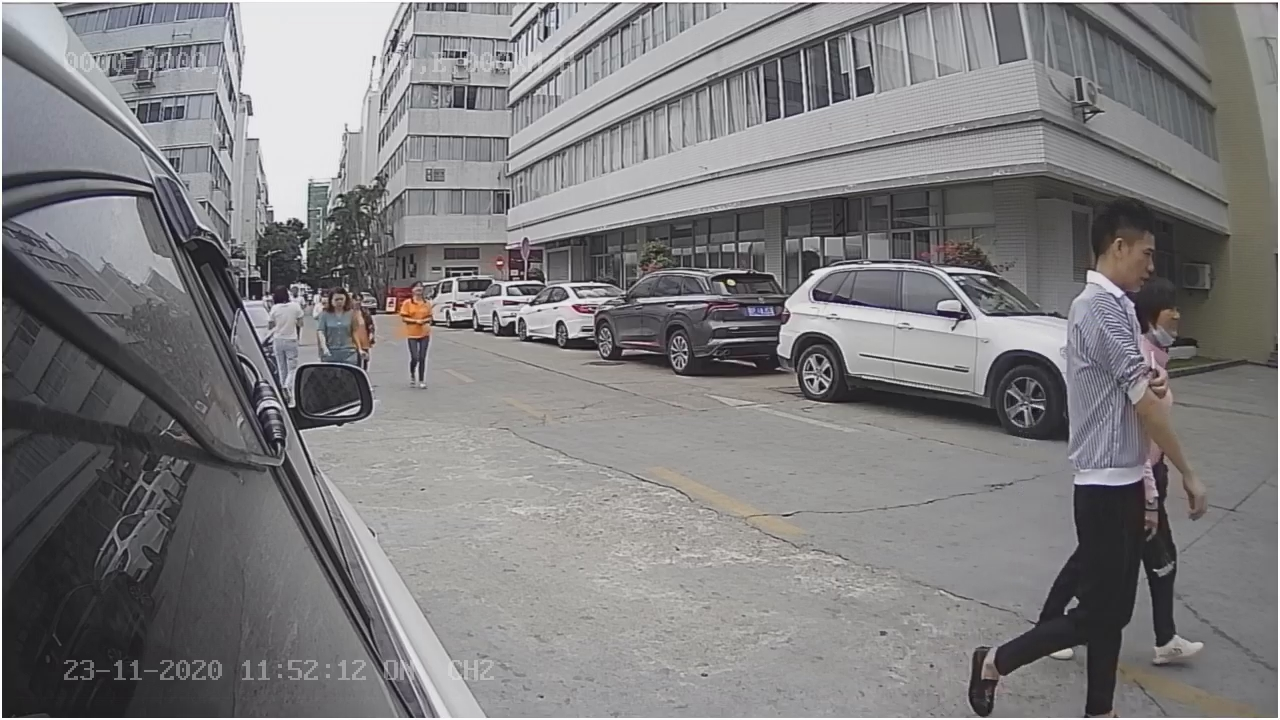person: (1055, 195, 1173, 437)
